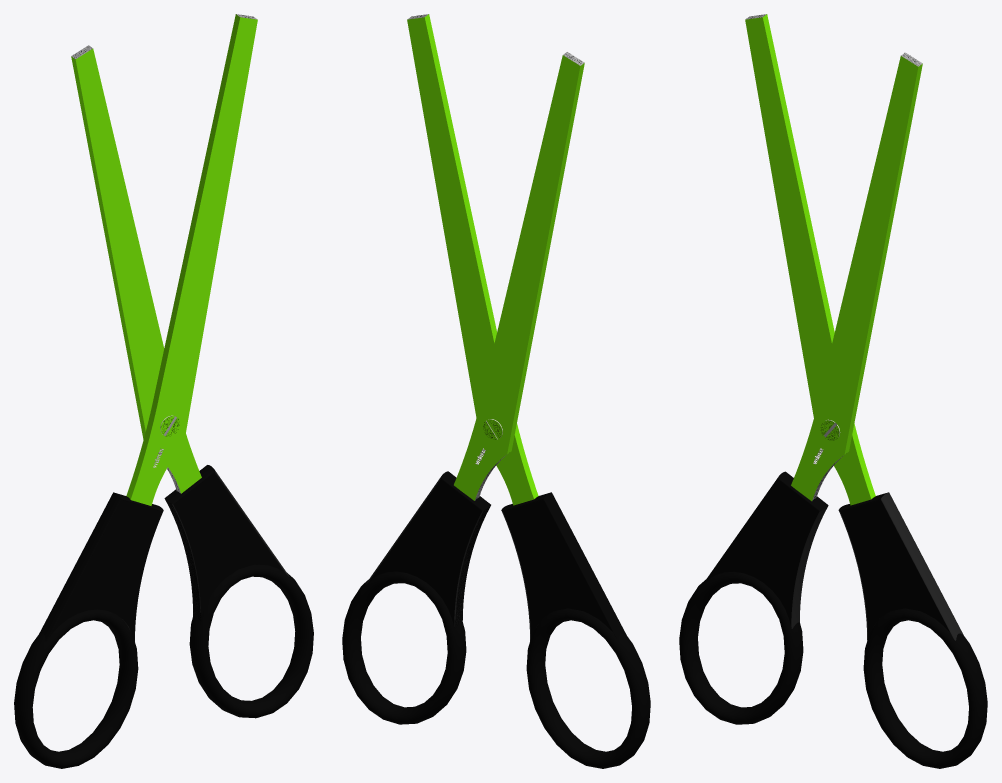
Rendered from scissors_08_origin_gt_2.dae.
The picture shows the model from 3 angles, left to right: view 1: azimuth 30°, elevation 25°; view 2: azimuth 150°, elevation 25°; view 3: azimuth 330°, elevation 25°; orthographic projection.
Parts seen in each view (by area): view 1: tijeras (×7); view 2: tijeras (×7); view 3: tijeras (×8).
Boxes of the visible parts, left/top/right/bottom form: tijeras (×7): left=14, top=14, right=313, bottom=768; tijeras (×7): left=342, top=14, right=650, bottom=768; tijeras (×8): left=679, top=14, right=987, bottom=768.
Bounding box in the file's own units: 3.05 × 0.2863 × 6.9.
5 materials, 2 textured.
